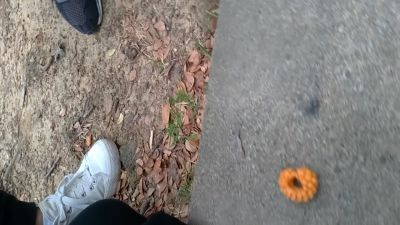eggs: (277, 168, 319, 202)
